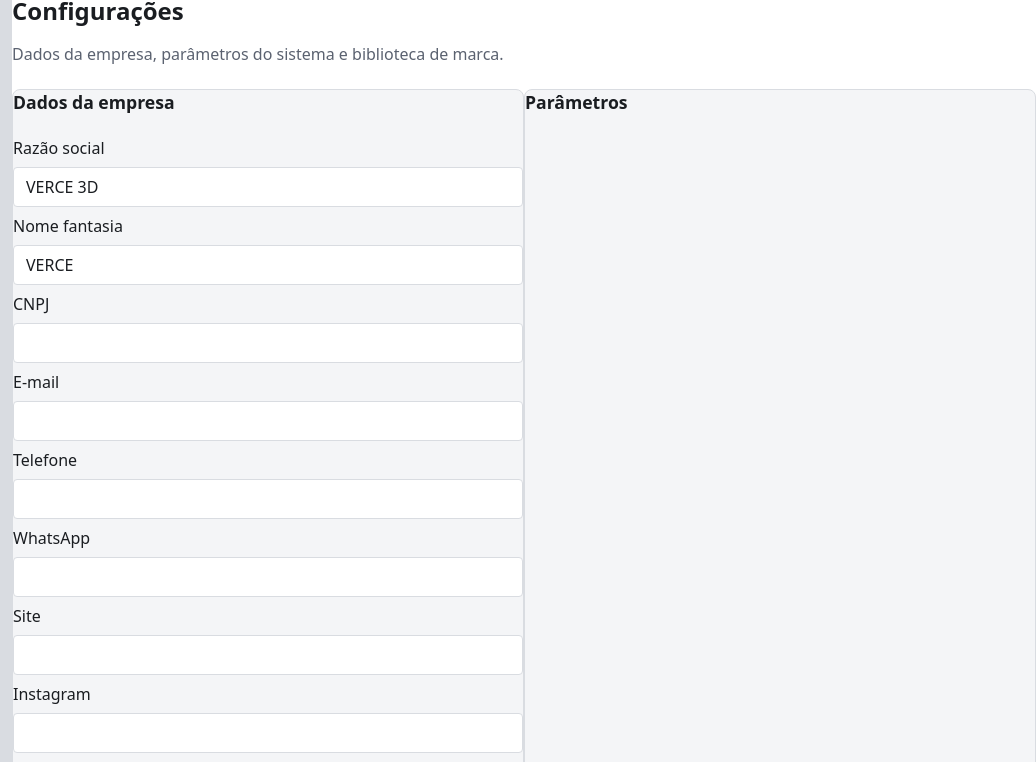
Test: SettingsPage › loads the company profile and saves an edited value through the centralized client
Replace the text in the field labelled "Razão social" with "VERCE 3D Atualizada" at point(268, 187), box x1=13 y1=167 x2=523 y2=207
(page scrolled)
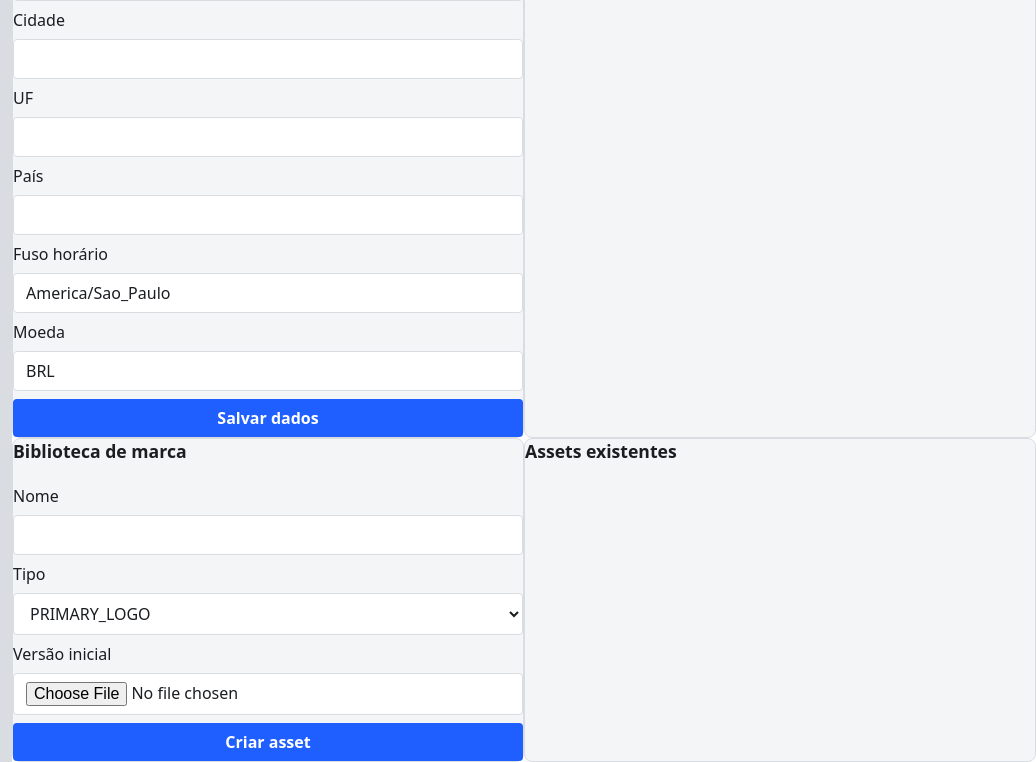
Click the button "Salvar dados" at point(268, 418), box x1=13 y1=399 x2=523 y2=437
(page scrolled)
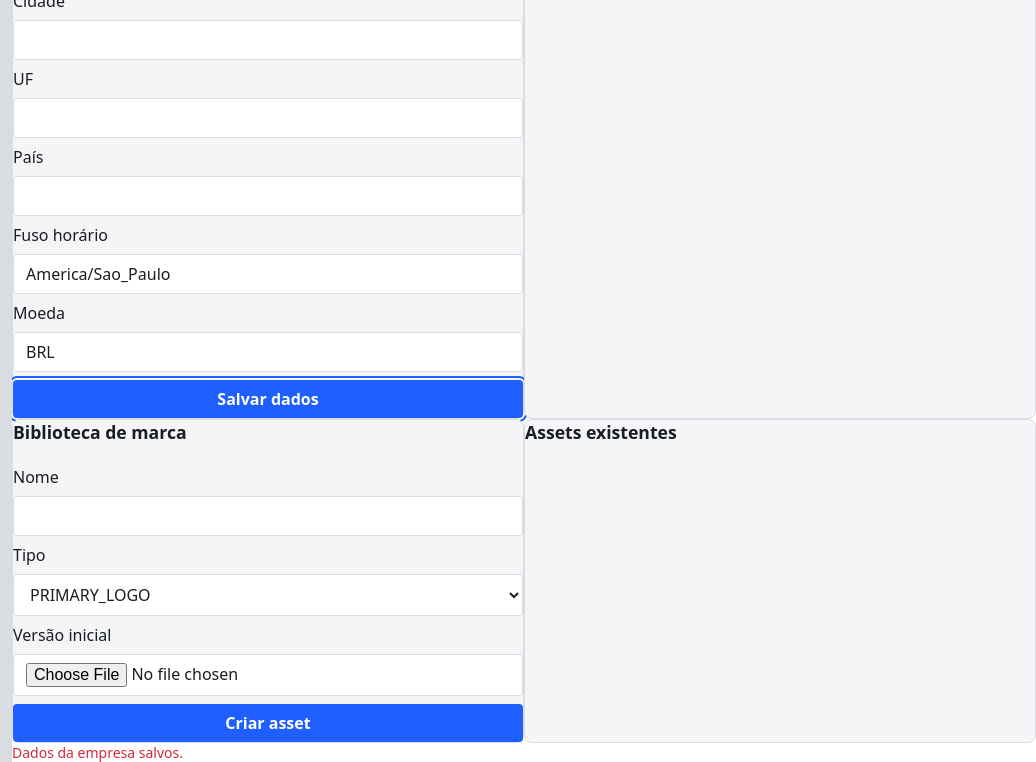
Expected: the message reads "Dados da empresa salvos.", x1=12 y1=743 x2=183 y2=761
